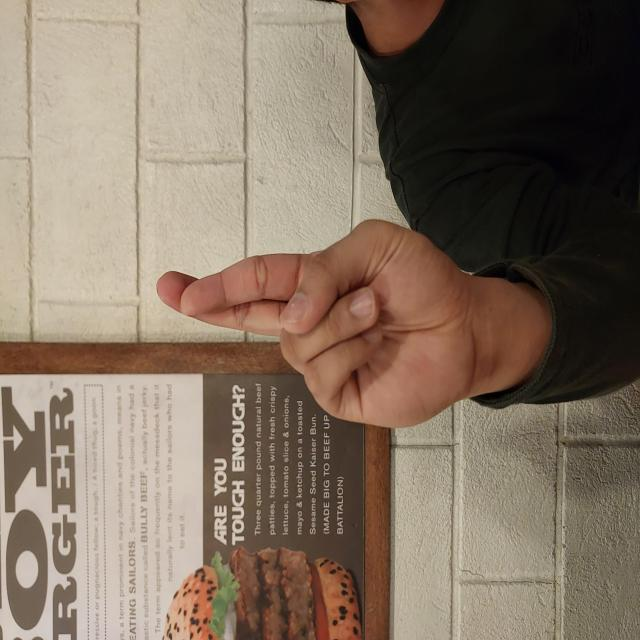R: (210, 155, 422, 478)
